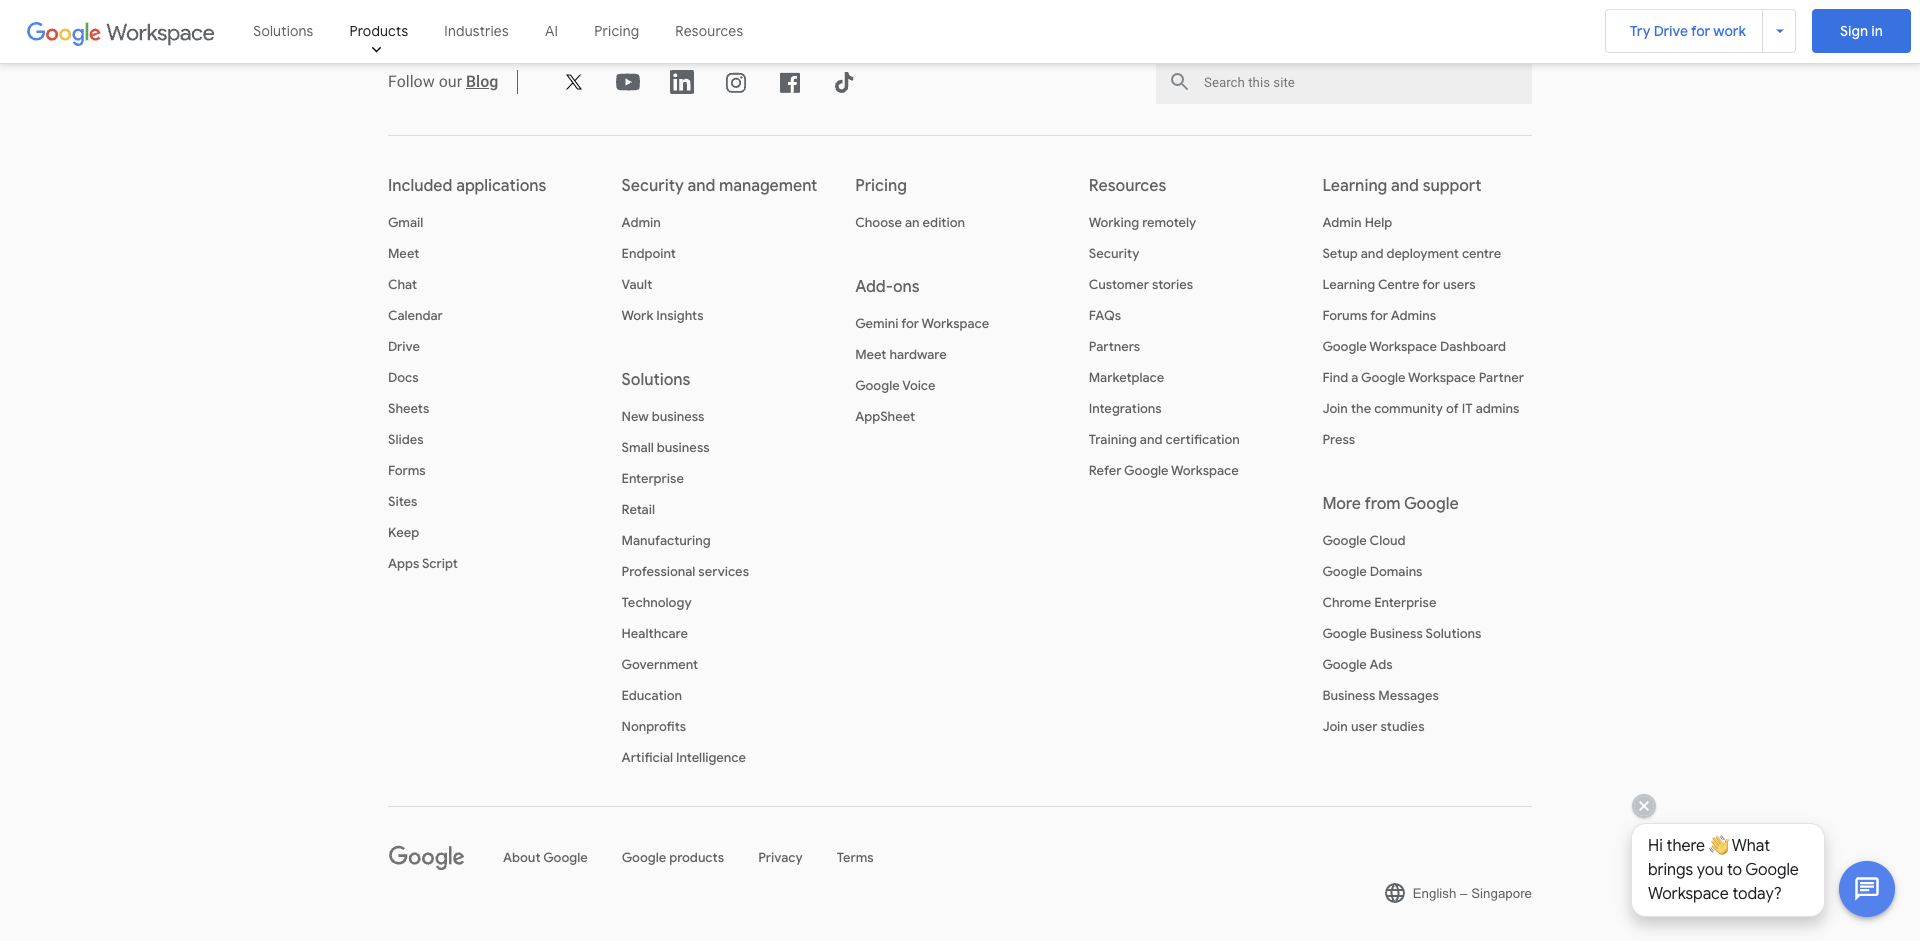button: (1605, 9, 1796, 53), (497, 102, 584, 184), (497, 102, 584, 184), (834, 102, 924, 165), (834, 102, 924, 165), (1812, 9, 1911, 53), (1382, 880, 1532, 908), (1839, 861, 1896, 916), (676, 10, 743, 54), (444, 10, 509, 54), (253, 10, 313, 54), (349, 10, 408, 54), (223, 89, 272, 137), (318, 89, 366, 137), (419, 89, 467, 137), (654, 89, 702, 137), (594, 10, 639, 54), (524, 116, 556, 170), (862, 116, 896, 152), (1840, 22, 1883, 40), (545, 10, 558, 54)
icon: (562, 70, 587, 94), (616, 70, 640, 94), (670, 70, 694, 94), (725, 70, 748, 94), (779, 70, 802, 94), (833, 70, 856, 94)
input: (1156, 60, 1532, 104)
link: (967, 522, 1048, 678), (398, 230, 513, 332), (398, 500, 513, 602), (535, 354, 613, 493), (834, 252, 921, 372), (834, 372, 921, 493), (834, 493, 921, 611), (558, 380, 678, 464), (558, 230, 678, 314), (558, 464, 678, 548), (398, 332, 513, 417), (398, 417, 513, 500), (421, 354, 489, 493), (535, 493, 613, 611), (834, 611, 921, 714), (967, 420, 1048, 522), (421, 493, 489, 611), (535, 252, 613, 354), (558, 314, 678, 380), (724, 336, 789, 456), (724, 456, 789, 576), (492, 236, 588, 314), (492, 398, 588, 475), (301, 252, 373, 354), (421, 611, 489, 714), (420, 252, 487, 354), (967, 336, 1048, 420), (967, 252, 1048, 336), (1646, 93, 1795, 134), (492, 475, 588, 535), (724, 252, 789, 336), (24, 18, 219, 45), (855, 174, 1065, 198), (388, 174, 598, 198), (622, 174, 831, 198), (1322, 174, 1532, 198), (634, 320, 719, 380), (492, 314, 588, 357), (492, 535, 588, 578), (492, 357, 588, 398), (634, 236, 719, 278), (634, 278, 719, 320), (1322, 369, 1524, 386), (1322, 399, 1520, 417), (1322, 338, 1506, 355), (1322, 245, 1501, 262), (1322, 625, 1482, 642), (1322, 276, 1476, 293), (1089, 431, 1240, 448), (1089, 462, 1239, 479), (855, 315, 989, 332), (622, 749, 746, 766), (388, 845, 468, 871), (622, 564, 749, 580), (1322, 687, 1439, 705), (1322, 594, 1436, 611), (855, 214, 965, 232), (1089, 214, 1196, 232), (1322, 308, 1436, 323), (1089, 276, 1193, 293), (1322, 718, 1424, 735), (622, 849, 724, 866), (1322, 564, 1423, 580), (855, 346, 947, 363), (622, 439, 710, 456), (622, 532, 710, 549), (503, 849, 588, 866), (1322, 532, 1406, 549), (622, 408, 704, 425), (855, 377, 936, 395), (622, 308, 704, 323), (622, 656, 698, 673), (1089, 369, 1164, 386), (1089, 399, 1162, 417), (388, 555, 458, 572), (622, 594, 692, 611), (1322, 214, 1392, 232), (1322, 656, 1392, 673), (622, 625, 688, 642), (622, 718, 686, 735), (622, 470, 684, 488), (622, 687, 682, 705), (855, 408, 915, 425), (622, 245, 676, 262), (1089, 338, 1140, 355), (388, 308, 443, 323), (1089, 245, 1139, 262), (758, 849, 803, 866), (388, 399, 430, 417), (622, 214, 661, 232), (388, 462, 426, 479), (836, 849, 873, 866), (388, 214, 424, 232), (388, 431, 424, 448), (562, 70, 587, 94), (616, 70, 640, 94), (670, 70, 694, 94), (467, 72, 498, 91), (725, 70, 748, 94), (779, 70, 802, 94), (833, 70, 856, 94), (622, 501, 655, 518), (1322, 431, 1356, 448), (388, 338, 420, 355), (1089, 308, 1122, 323), (388, 245, 419, 262), (388, 369, 419, 386), (388, 524, 419, 542), (622, 276, 653, 293), (388, 276, 418, 293), (388, 493, 418, 510)
